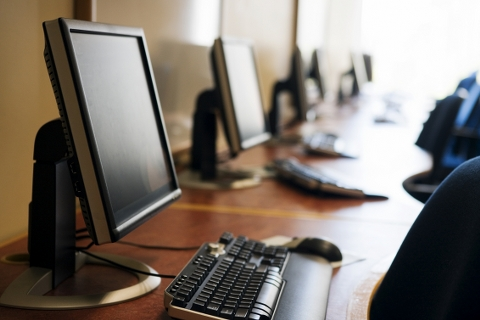pc: (1, 17, 181, 310), (178, 36, 272, 191)
